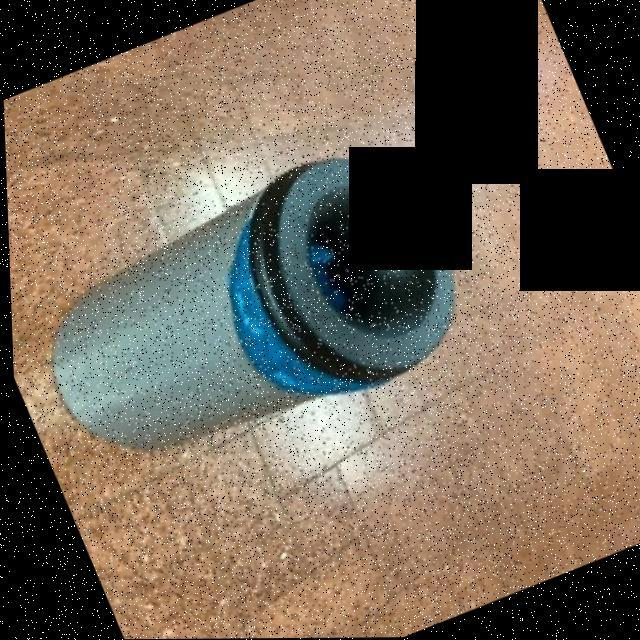bin: (2, 77, 540, 544)
